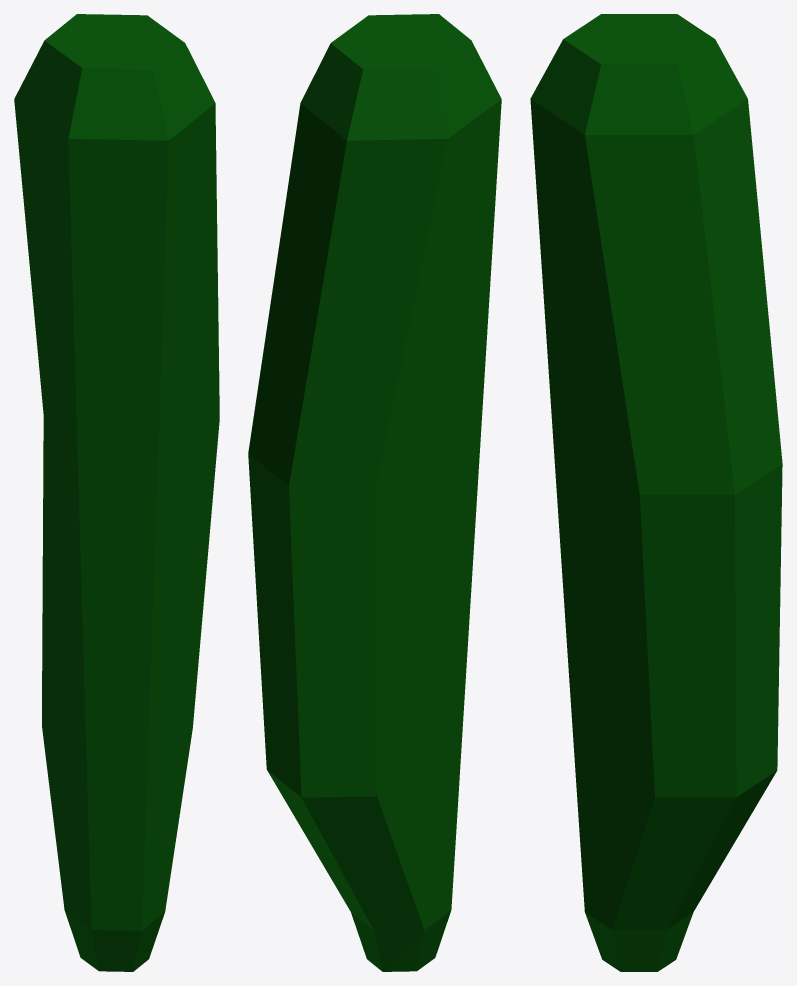
The model's file is chiliCollider.obj.
The picture shows the model from 3 angles, left to right: view 1: azimuth 30°, elevation 25°; view 2: azimuth 150°, elevation 25°; view 3: azimuth 270°, elevation 25°; orthographic projection.
Parts seen in each view (by area): view 1: carrotBody.002; view 2: carrotBody.002; view 3: carrotBody.002.
Boxes of the visible parts, x1=… form: carrotBody.002: x1=14, y1=14, x2=219, y2=971; carrotBody.002: x1=248, y1=14, x2=501, y2=971; carrotBody.002: x1=530, y1=14, x2=782, y2=971.
Size of the model in its own units: 0.0394 by 0.1931 by 0.0479.
